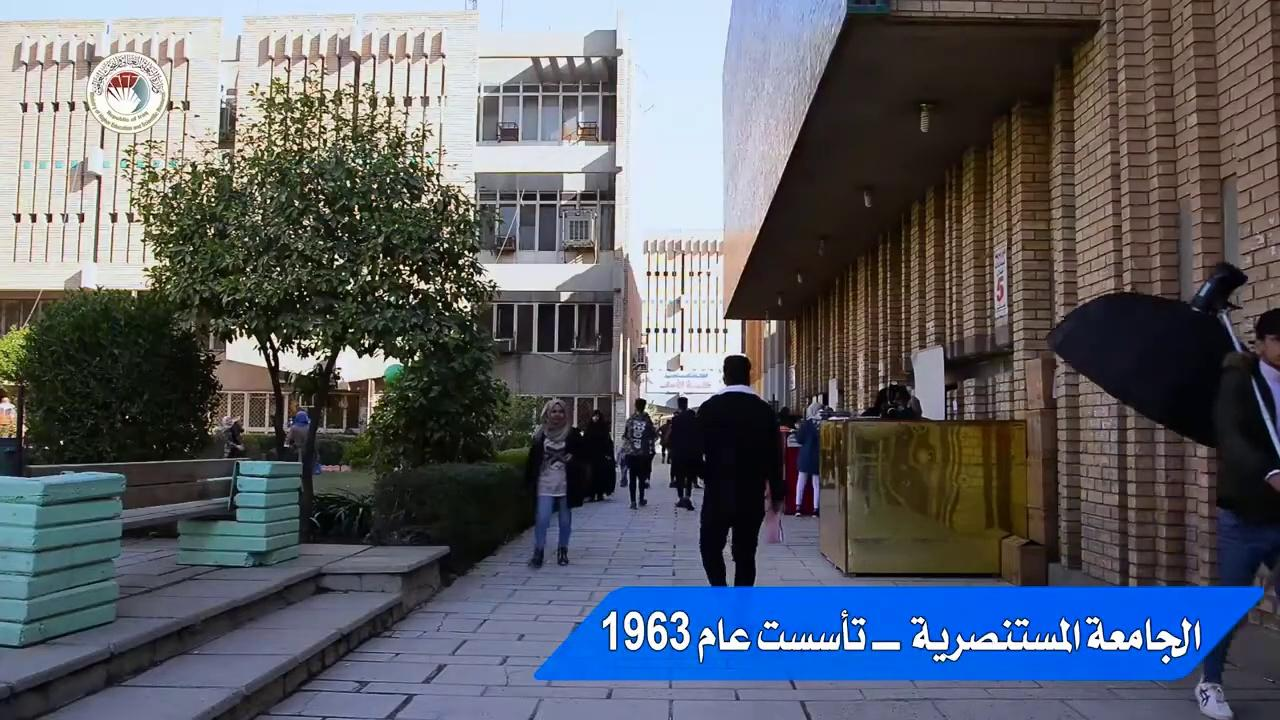person: (1193, 307, 1279, 719), (692, 354, 786, 586), (524, 399, 585, 568), (620, 397, 657, 509), (792, 395, 825, 518), (666, 396, 700, 509), (582, 409, 614, 502), (883, 385, 921, 419), (221, 415, 245, 458), (0, 395, 16, 426)
tree: (117, 58, 505, 539), (1, 283, 223, 465), (345, 310, 509, 478), (0, 321, 35, 470)
